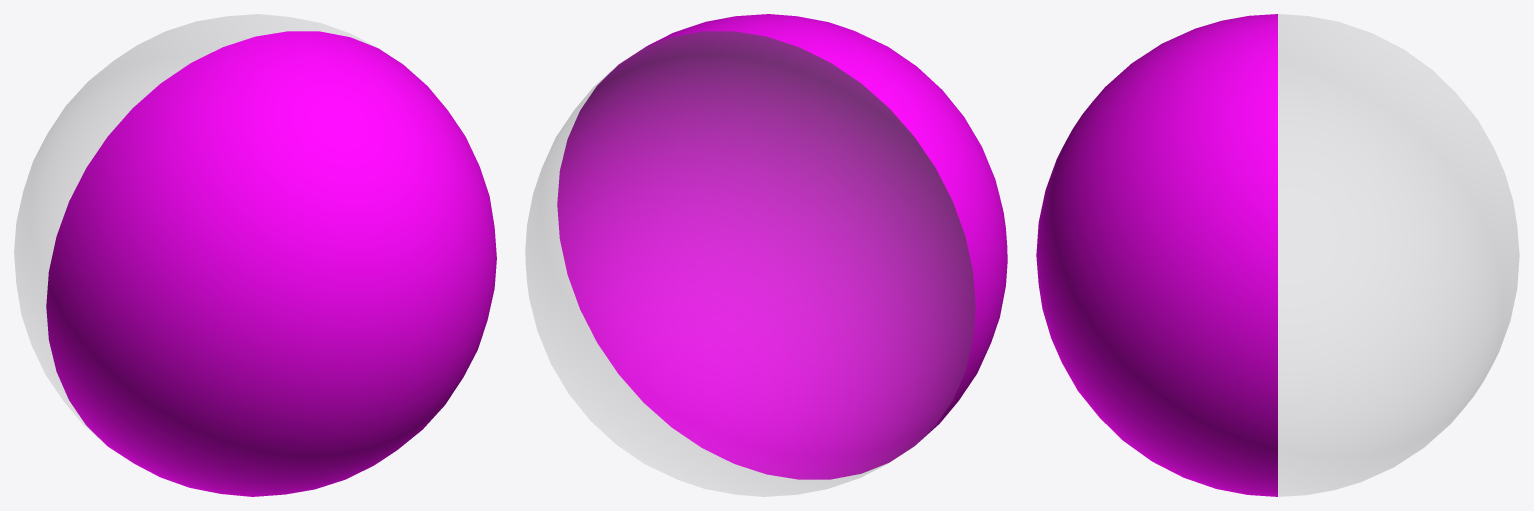
The model's file is ball-pink.glb.
The picture shows the model from 3 angles, left to right: view 1: azimuth 30°, elevation 25°; view 2: azimuth 150°, elevation 25°; view 3: azimuth 270°, elevation 25°; orthographic projection.
Parts seen in each view (by area): view 1: ball.001; view 2: ball.001; view 3: ball.001.
Part boxes in pixels (bbox=[...]): ball.001: bbox=[14, 14, 496, 496]; ball.001: bbox=[525, 14, 1007, 496]; ball.001: bbox=[1036, 14, 1519, 496].
Size of the model in its own units: 0.3 by 0.3 by 0.3.
